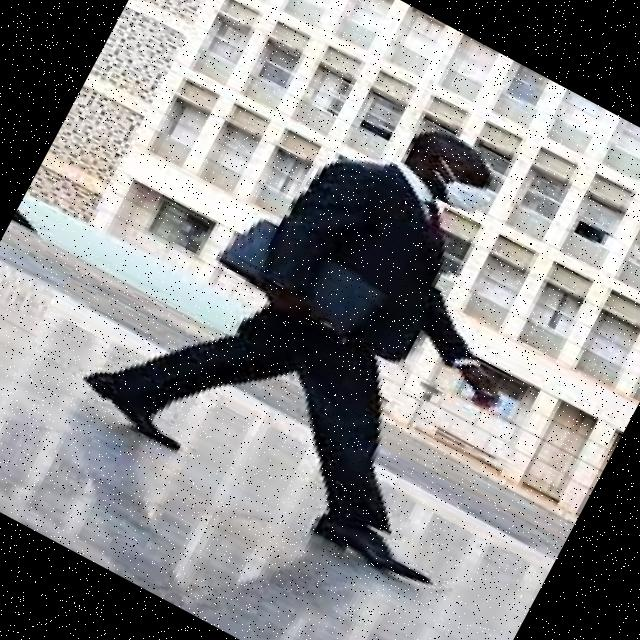Person: (69, 38, 620, 594)
